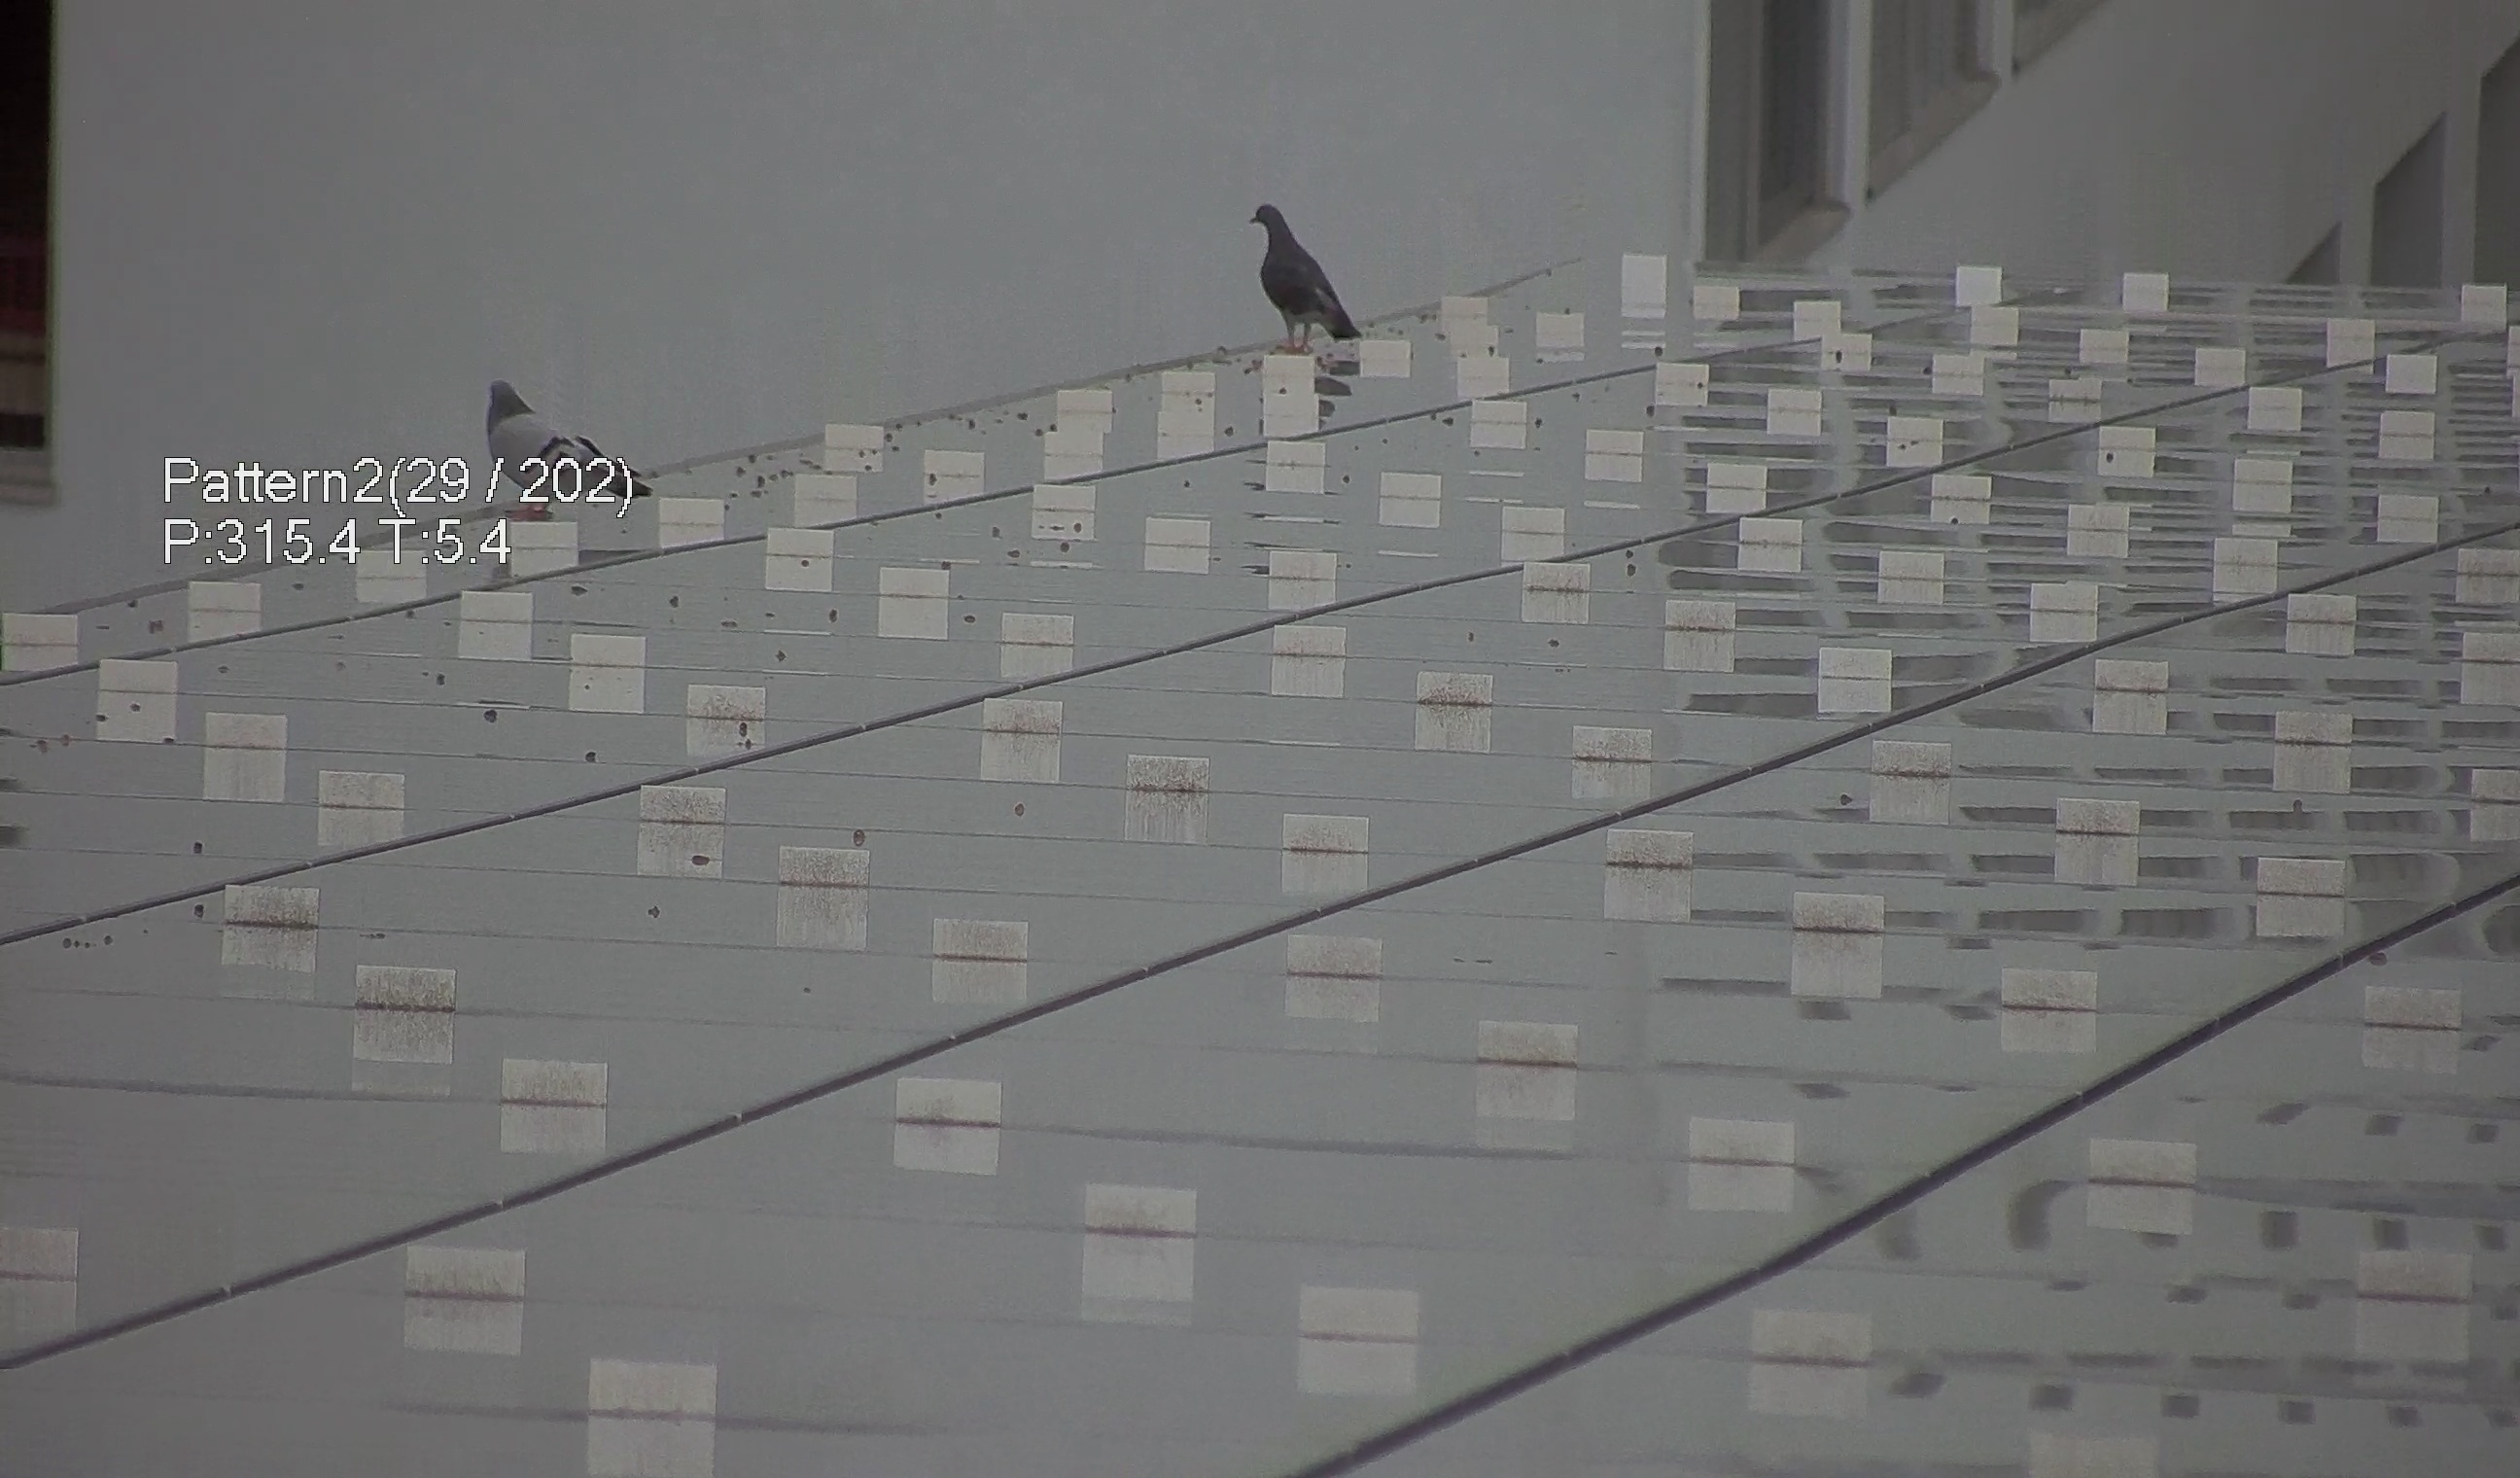Pigeon: (477, 371, 659, 528), (1231, 190, 1372, 355)
